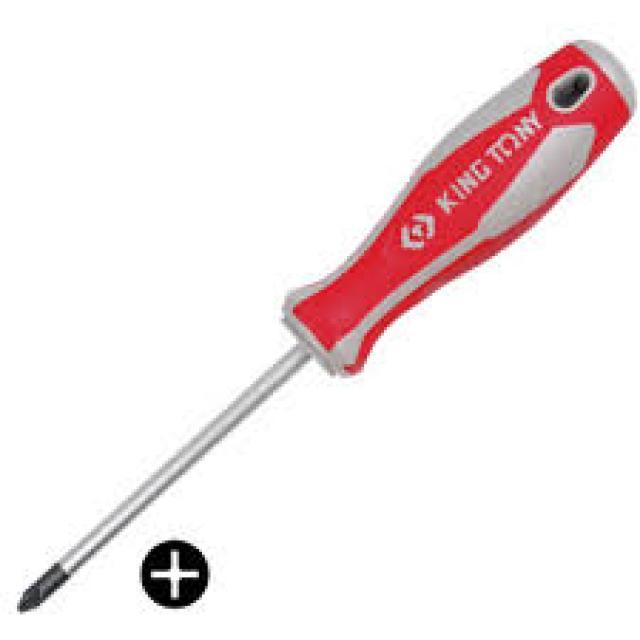screwdriver: (15, 38, 634, 616)
